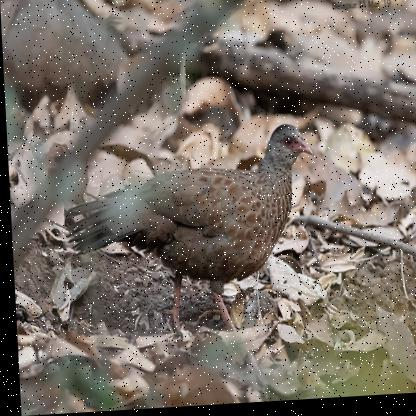Burung: (52, 127, 319, 333)
